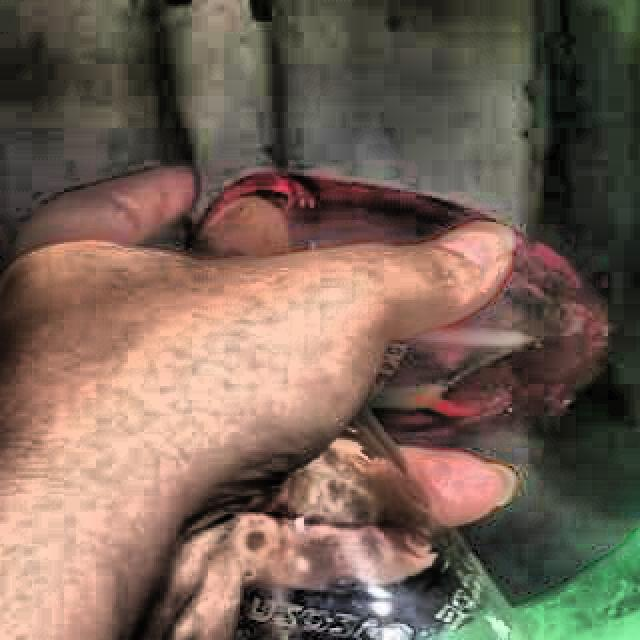glass: (233, 238, 605, 640), (192, 172, 485, 257)
